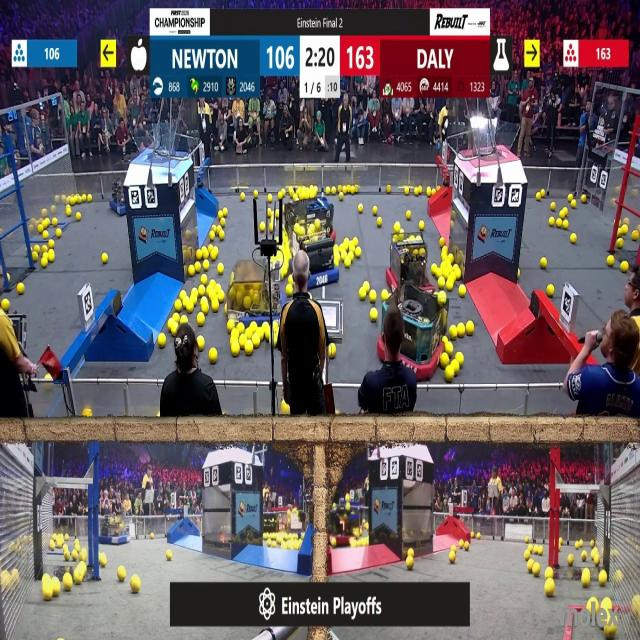ball_ground: (544, 581, 554, 598), (604, 625, 615, 639), (132, 578, 141, 595), (42, 586, 52, 601), (598, 570, 607, 586), (64, 578, 74, 592), (583, 570, 591, 587), (439, 290, 448, 304), (53, 583, 62, 597), (74, 571, 83, 584), (159, 335, 167, 349), (465, 321, 473, 335), (446, 366, 454, 380), (282, 404, 290, 418), (232, 345, 241, 357), (210, 349, 218, 362), (198, 338, 206, 351), (328, 345, 336, 358), (458, 323, 466, 336), (100, 554, 108, 567), (185, 302, 193, 314), (198, 314, 206, 326), (245, 344, 253, 356), (210, 248, 218, 260), (442, 354, 450, 366), (252, 337, 260, 349), (2, 300, 9, 313), (171, 322, 178, 335), (117, 567, 124, 580), (606, 255, 614, 266), (544, 567, 552, 578), (358, 289, 366, 300), (450, 325, 458, 336), (546, 285, 553, 297), (459, 285, 466, 297), (369, 310, 376, 322), (407, 558, 414, 570), (175, 301, 182, 313), (187, 266, 194, 278), (203, 302, 210, 314), (439, 278, 446, 290), (532, 564, 539, 576), (180, 315, 188, 325), (82, 410, 90, 420), (239, 336, 247, 346), (203, 261, 210, 272), (622, 263, 629, 274), (456, 352, 463, 363), (447, 280, 454, 291), (539, 257, 546, 268), (450, 552, 456, 564), (368, 290, 374, 302), (203, 248, 209, 260), (16, 284, 23, 294), (201, 275, 208, 285), (173, 312, 180, 322), (556, 217, 563, 227), (602, 599, 609, 609), (570, 234, 576, 245), (227, 320, 233, 331), (212, 301, 218, 312), (102, 252, 108, 263), (382, 289, 388, 300), (194, 263, 200, 274), (48, 251, 54, 262), (431, 265, 437, 276), (447, 343, 453, 354), (527, 561, 532, 574), (42, 573, 50, 581), (455, 271, 462, 280), (345, 258, 352, 267), (190, 287, 197, 296), (238, 323, 245, 332), (622, 224, 629, 233), (218, 266, 224, 276), (355, 248, 361, 258), (259, 221, 265, 231), (166, 551, 172, 561), (286, 285, 292, 295), (200, 286, 206, 296), (195, 250, 201, 260), (407, 210, 413, 220), (218, 291, 224, 301), (561, 208, 567, 218), (594, 556, 600, 566), (588, 602, 594, 612), (80, 552, 86, 562), (579, 552, 585, 562), (454, 362, 460, 372), (618, 240, 625, 248), (562, 219, 568, 228), (547, 217, 553, 226), (632, 232, 638, 241), (41, 258, 47, 267), (66, 207, 72, 216), (65, 552, 71, 561), (426, 187, 432, 196), (72, 552, 78, 561), (269, 222, 275, 231), (420, 220, 425, 230), (394, 222, 399, 232), (568, 555, 573, 565), (331, 537, 336, 547), (363, 282, 369, 290), (570, 200, 576, 208), (551, 203, 557, 211), (180, 290, 186, 298), (386, 185, 392, 193), (219, 218, 225, 226), (524, 552, 530, 560), (51, 217, 57, 225), (252, 190, 258, 198), (251, 322, 257, 330), (210, 280, 216, 288), (417, 186, 423, 194), (574, 540, 580, 548), (348, 250, 354, 258), (32, 242, 38, 250), (219, 232, 224, 241), (535, 191, 540, 200), (210, 233, 215, 242), (340, 191, 345, 200), (48, 240, 53, 249), (222, 208, 227, 217), (344, 239, 349, 248), (449, 254, 454, 263), (281, 269, 286, 278), (408, 550, 414, 557), (403, 187, 409, 194), (212, 223, 218, 230), (45, 375, 51, 382), (371, 207, 376, 215), (269, 193, 274, 201), (269, 209, 274, 217), (441, 239, 446, 247), (33, 252, 38, 260), (358, 205, 363, 213), (353, 238, 358, 246), (43, 232, 48, 240), (464, 541, 469, 549), (475, 532, 480, 540), (278, 194, 283, 202), (81, 193, 86, 201), (331, 186, 336, 194), (517, 272, 522, 280), (378, 217, 382, 226), (76, 212, 80, 221), (58, 230, 62, 239), (524, 536, 530, 542), (460, 539, 464, 548), (538, 545, 542, 554), (580, 197, 585, 204), (287, 277, 292, 284), (452, 543, 457, 550), (217, 210, 222, 217), (442, 253, 447, 260), (241, 192, 245, 200), (276, 210, 280, 218), (89, 193, 93, 201), (150, 535, 154, 542), (568, 193, 572, 200), (528, 544, 532, 550)
goal: (466, 120, 521, 160), (131, 130, 188, 160)
robot_blue: (225, 261, 283, 328), (292, 219, 338, 289), (100, 516, 129, 546), (108, 184, 127, 216)
robot_red: (380, 294, 446, 383), (386, 235, 429, 294)
